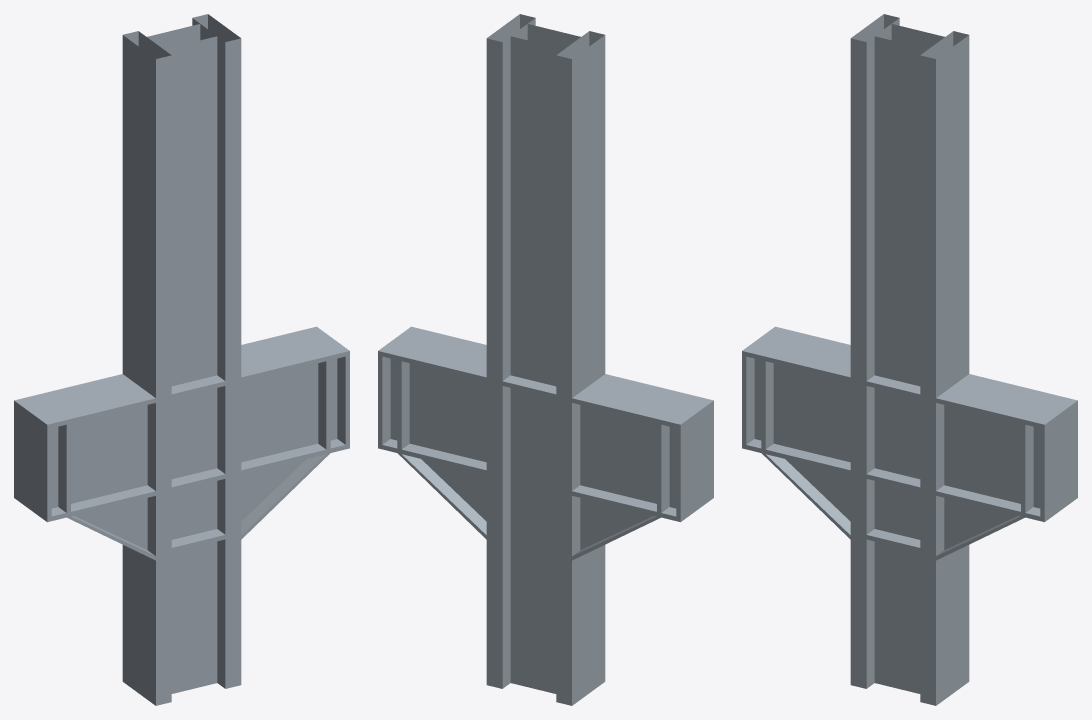
File: SM06_Building_Structure_Column_Flat_Top_01.fbx
The picture shows the model from 3 angles, left to right: view 1: azimuth 30°, elevation 25°; view 2: azimuth 150°, elevation 25°; view 3: azimuth 330°, elevation 25°; orthographic projection.
Parts seen in each view (by area): view 1: SM06_Building_Structure_Column_Flat_Top_01; view 2: SM06_Building_Structure_Column_Flat_Top_01; view 3: SM06_Building_Structure_Column_Flat_Top_01.
Part boxes in pixels (x1,y1,x2,y2): SM06_Building_Structure_Column_Flat_Top_01: [14, 14, 349, 705]; SM06_Building_Structure_Column_Flat_Top_01: [378, 14, 713, 705]; SM06_Building_Structure_Column_Flat_Top_01: [742, 14, 1077, 705].
Bounding box in the file's own units: 2.09 × 4.27 × 0.3976.
